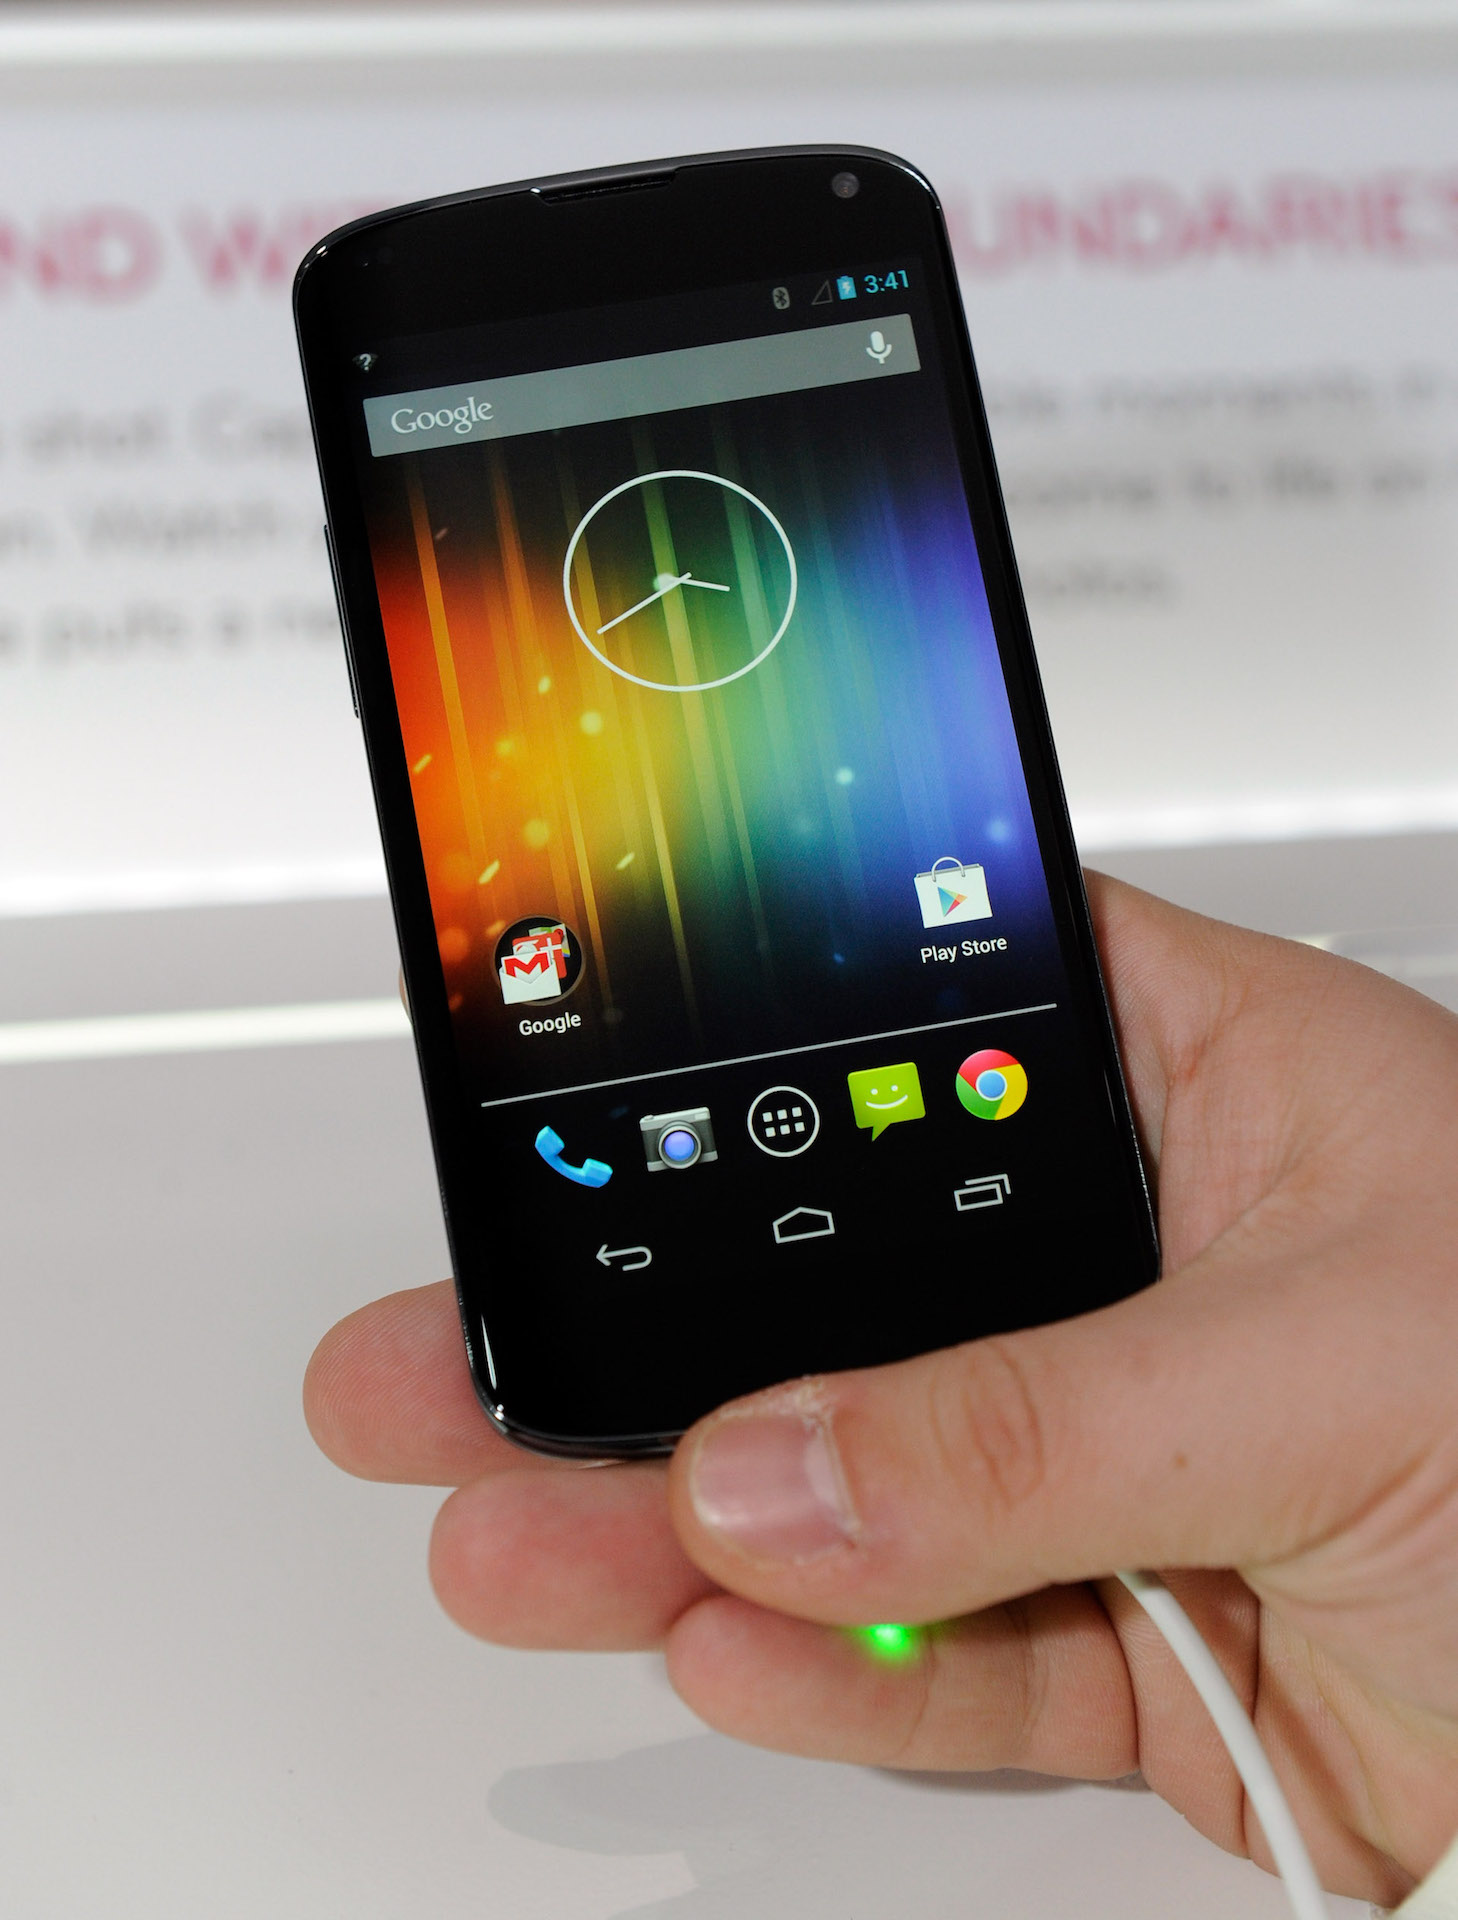smartphone: (288, 139, 1169, 1467)
